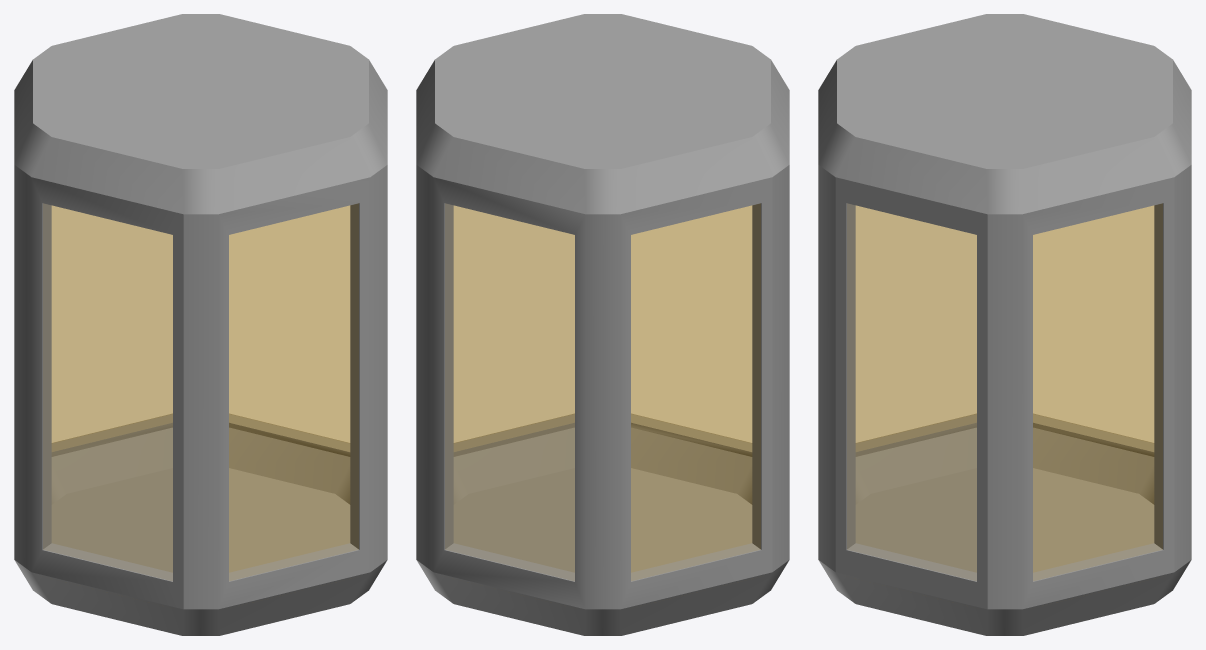
File: cage_big.fbx
3 renders of one model, left to right at view 1: azimuth 30°, elevation 25°; view 2: azimuth 150°, elevation 25°; view 3: azimuth 270°, elevation 25°, orthographic.
Parts seen in each view (by area): view 1: polySurface34; view 2: polySurface34; view 3: polySurface34.
Part boxes in pixels (x1,y1,x2,y2): polySurface34: (14,14,387,635); polySurface34: (416,14,789,635); polySurface34: (818,14,1191,635).
Bounding box in the file's own units: 191 × 239 × 173.
